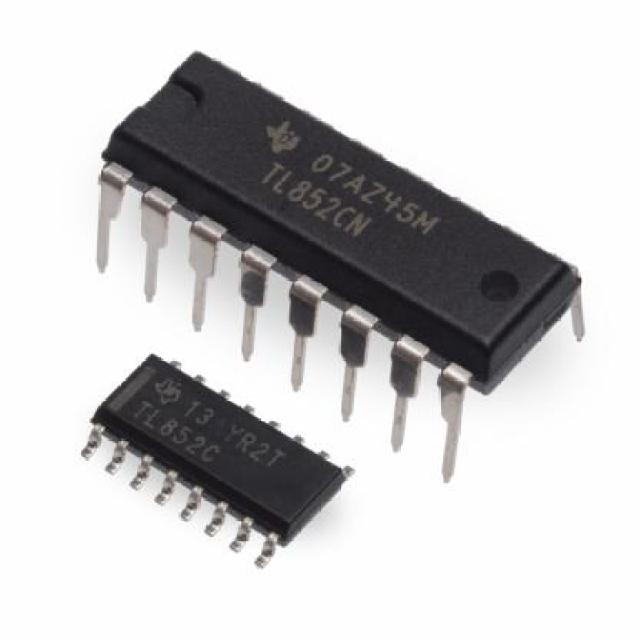IC chip: (102, 52, 583, 397), (92, 355, 351, 568)
